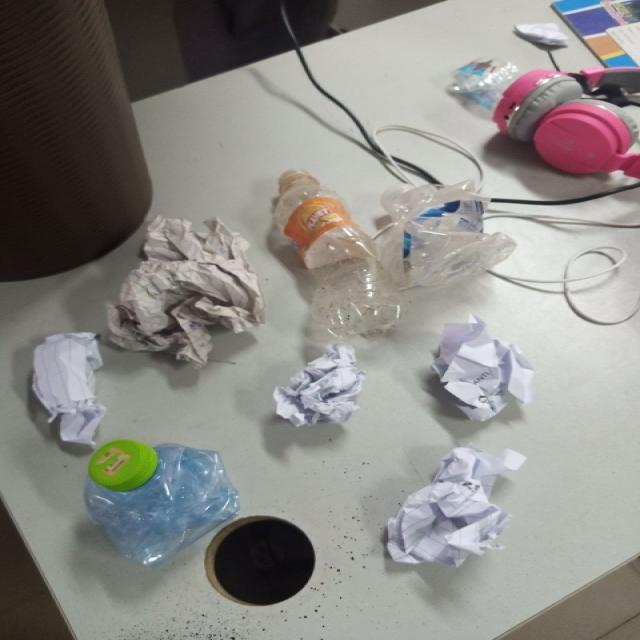Paper: (109, 218, 264, 365), (387, 447, 528, 572), (433, 319, 533, 424), (28, 332, 105, 453), (276, 348, 365, 428)
Plastic: (273, 168, 401, 336), (83, 443, 240, 569), (373, 175, 512, 292)
